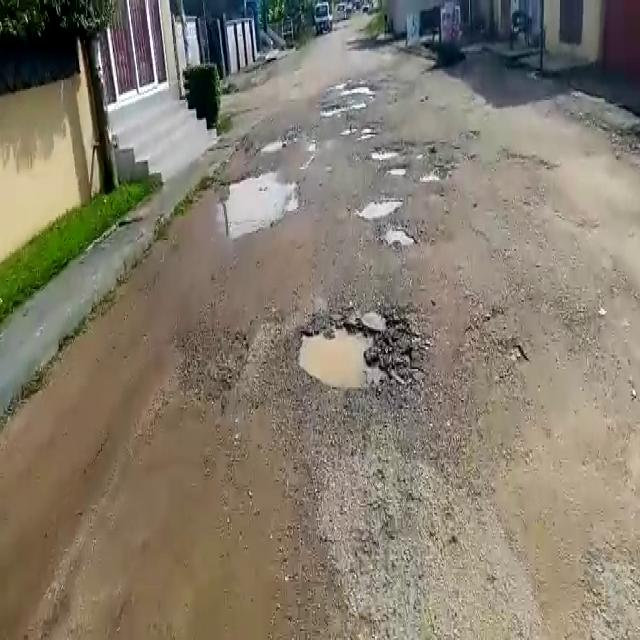Pothole: (292, 313, 403, 392), (218, 167, 302, 245), (354, 197, 405, 220), (376, 225, 422, 249), (364, 144, 410, 159), (342, 121, 380, 137), (418, 167, 444, 184), (260, 140, 286, 155), (385, 164, 408, 177)
